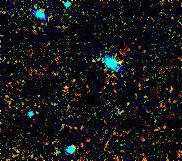star: (107, 49, 137, 79)
